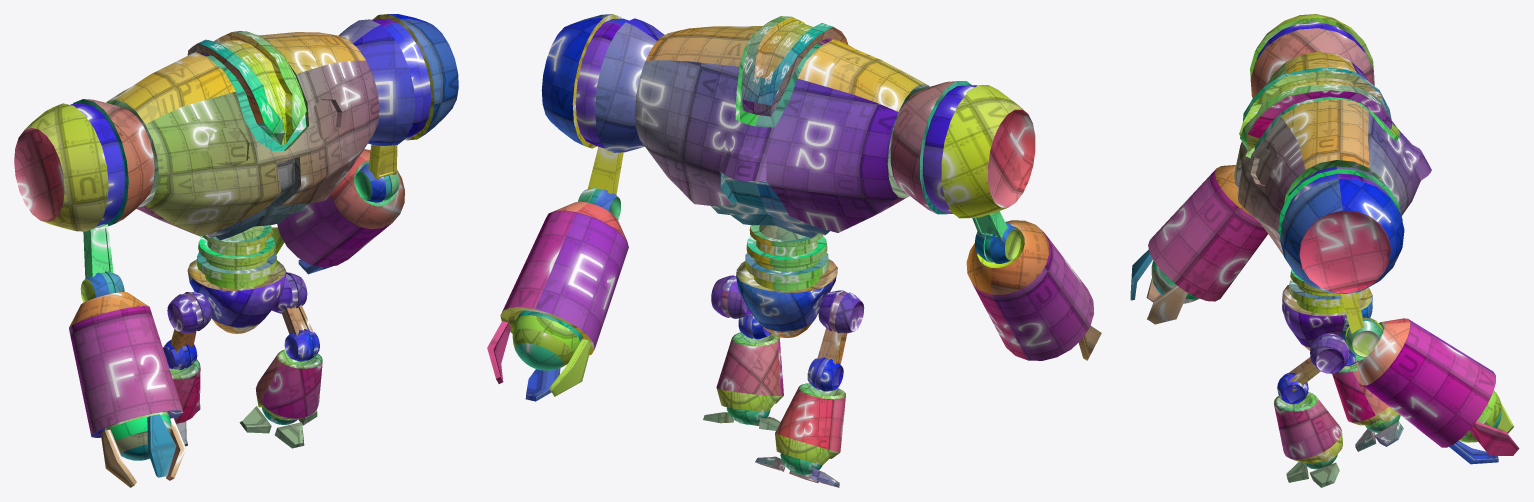
Rendered from WalkingRobot.obj.
The picture shows the model from 3 angles, left to right: view 1: azimuth 30°, elevation 25°; view 2: azimuth 150°, elevation 25°; view 3: azimuth 270°, elevation 25°; orthographic projection. The views are drawn at different scales.
Parts seen in each view (by area): view 1: Chest, Chest RShoulder, Chest RShoulder RUpperArm RElbow RForearm, Chest LShoulder, Chest Torso2, Chest LShoulder LUpperArm LElbow1 LForearm, Chest Head2, initialShadingGroup Chest RShoulder RUpperArm RElbow RForearm RH, Chest Torso2 LHip LThigh LKnee LCalve, Chest Torso2 Rhip, Chest Torso2 LHip LThigh LKnee LCalve LFoot, Chest RShoulder RUpperArm (+8 smaller); view 2: Chest, Chest RShoulder, Chest LShoulder, Chest LShoulder LUpperArm LElbow1 LForearm, Chest RShoulder RUpperArm RElbow RForearm, Chest Torso2, initialShadingGroup Chest LShoulder LUpperArm LElbow1 LForearm L, Chest Head2, Chest Torso2 Rhip RThigh RKnee RCalve, Chest Torso2 LHip LThigh LKnee LCalve, Chest Torso2 Rhip, Chest RShoulder RUpperArm RElbow (+8 smaller); view 3: Chest, Chest LShoulder, Chest LShoulder LUpperArm LElbow1 LForearm, Chest RShoulder RUpperArm RElbow RForearm, Chest Head2, Chest RShoulder, Chest Torso2, Chest Torso2 LHip LThigh LKnee LCalve, initialShadingGroup Chest LShoulder LUpperArm LElbow1 LForearm L, initialShadingGroup Chest RShoulder RUpperArm RElbow RForearm RH, Chest Torso2 Rhip RThigh RKnee RCalve, Chest Torso2 LHip (+6 smaller).
Boxes of the visible parts, box(x1,y1,x2,y2) form: Chest: box(106, 32, 379, 240); Chest RShoulder: box(14, 99, 154, 231); Chest RShoulder RUpperArm RElbow RForearm: box(69, 292, 183, 437); Chest LShoulder: box(338, 14, 458, 145); Chest Torso2: box(187, 225, 286, 333); Chest LShoulder LUpperArm LElbow1 LForearm: box(277, 149, 404, 267); Chest Head2: box(187, 31, 306, 145); initialShadingGroup Chest RShoulder RUpperArm RElbow RForearm RH: box(100, 411, 186, 487); Chest Torso2 LHip LThigh LKnee LCalve: box(255, 349, 322, 420); Chest Torso2 Rhip: box(167, 292, 211, 333); Chest Torso2 LHip LThigh LKnee LCalve LFoot: box(239, 406, 317, 448); Chest RShoulder RUpperArm: box(83, 224, 113, 278); Chest: box(635, 26, 929, 237); Chest RShoulder: box(890, 81, 1035, 218); Chest LShoulder: box(541, 14, 664, 152); Chest LShoulder LUpperArm LElbow1 LForearm: box(500, 201, 628, 355); Chest RShoulder RUpperArm RElbow RForearm: box(966, 220, 1093, 360); Chest Torso2: box(736, 225, 837, 337); initialShadingGroup Chest LShoulder LUpperArm LElbow1 LForearm L: box(487, 310, 591, 401); Chest Head2: box(742, 16, 848, 116); Chest Torso2 Rhip RThigh RKnee RCalve: box(775, 383, 845, 465); Chest Torso2 LHip LThigh LKnee LCalve: box(716, 332, 783, 411); Chest Torso2 Rhip: box(818, 290, 864, 333); Chest RShoulder RUpperArm RElbow: box(975, 222, 1020, 263); Chest: box(1234, 52, 1431, 255); Chest LShoulder: box(1278, 166, 1404, 293); Chest LShoulder LUpperArm LElbow1 LForearm: box(1355, 318, 1495, 447); Chest RShoulder RUpperArm RElbow RForearm: box(1148, 165, 1267, 301); Chest Head2: box(1239, 67, 1392, 151); Chest RShoulder: box(1250, 14, 1374, 98); Chest Torso2: box(1282, 269, 1372, 350); Chest Torso2 LHip LThigh LKnee LCalve: box(1273, 392, 1342, 462); initialShadingGroup Chest LShoulder LUpperArm LElbow1 LForearm L: box(1449, 390, 1519, 464); initialShadingGroup Chest RShoulder RUpperArm RElbow RForearm RH: box(1130, 249, 1199, 324); Chest Torso2 Rhip RThigh RKnee RCalve: box(1332, 363, 1398, 425); Chest Torso2 LHip: box(1310, 333, 1349, 373).
Size of the model in its own units: 4.42 by 4.09 by 3.68.
Materials: 1 (1 with a texture image).
